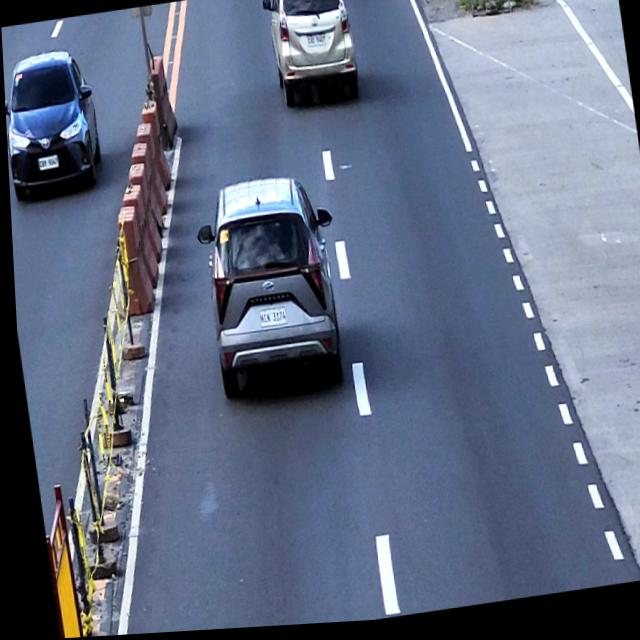Car: (187, 169, 351, 403), (2, 45, 103, 201), (259, 0, 360, 113)
License-Plate: (254, 309, 284, 331), (35, 155, 58, 171), (305, 35, 326, 50)
